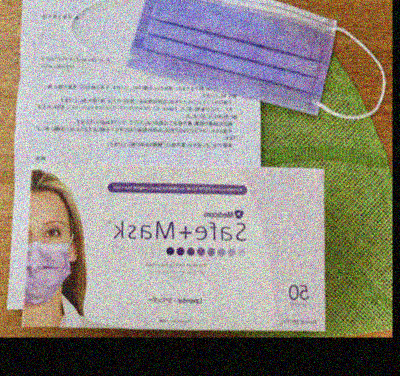with_mask: (24, 218, 70, 307)
